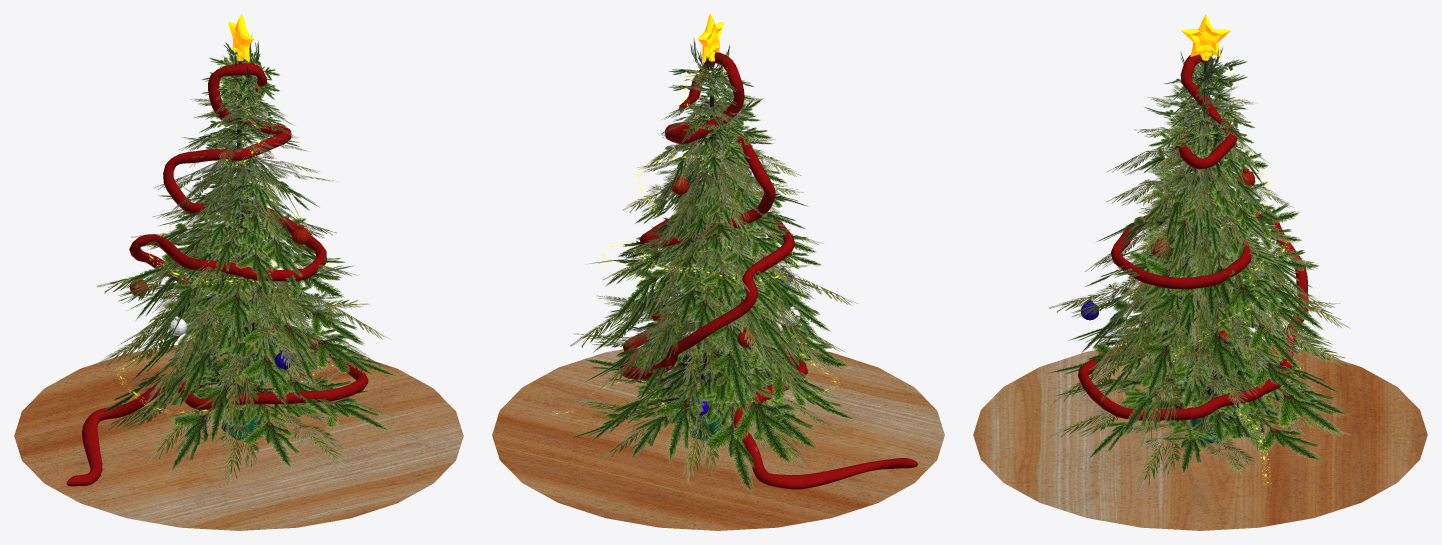
Rendered from obj_christmas_tree_f1c1e8.glb.
3 renders of one model, left to right at view 1: azimuth 30°, elevation 25°; view 2: azimuth 150°, elevation 25°; view 3: azimuth 270°, elevation 25°, orthographic.
Visible parts, largest first — view 1: obj_christmas_tree_f1c1e8; view 2: obj_christmas_tree_f1c1e8; view 3: obj_christmas_tree_f1c1e8.
Part boxes in pixels (x1,y1,x2,y2): obj_christmas_tree_f1c1e8: (14, 14, 463, 530); obj_christmas_tree_f1c1e8: (492, 14, 944, 530); obj_christmas_tree_f1c1e8: (973, 14, 1427, 530).
Bounding box in the file's own units: 1.71 × 1.8 × 1.71.
9 materials, 9 textured.
